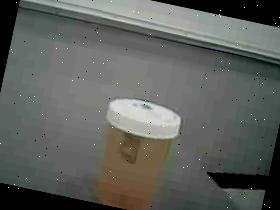Bottle B: (84, 92, 185, 210)
